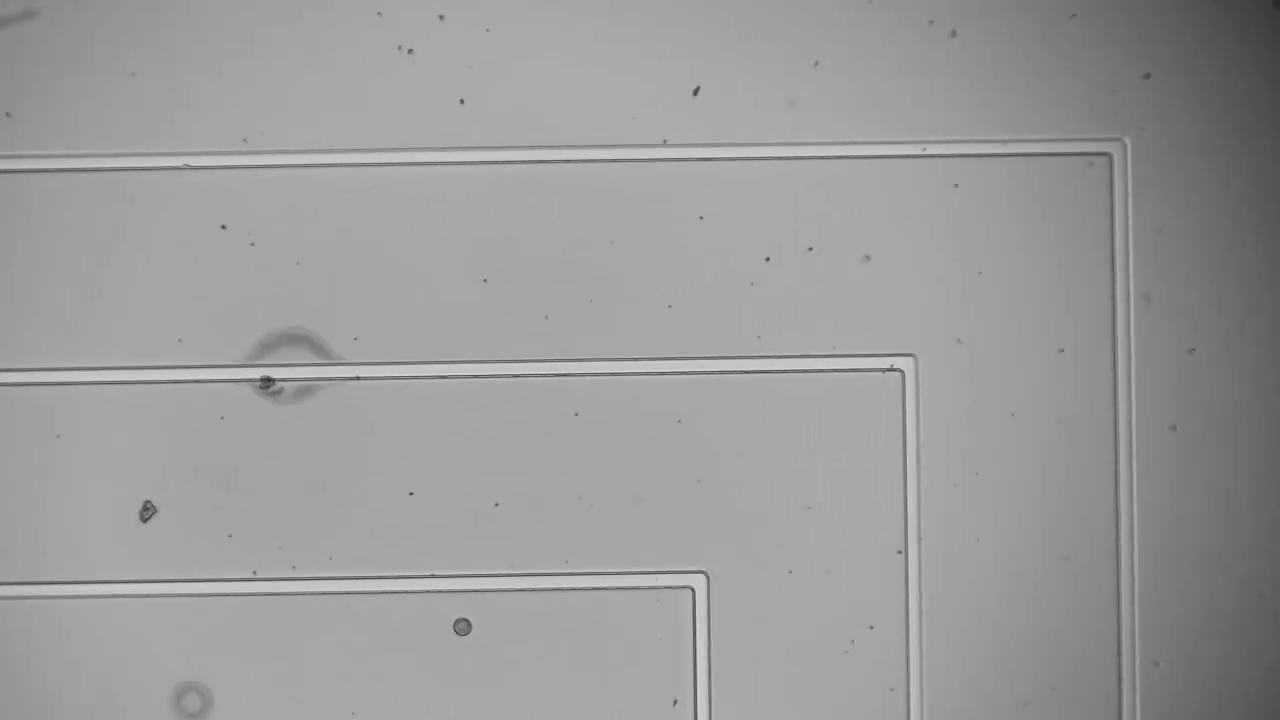stains_enbedded: (252, 358, 285, 395)
